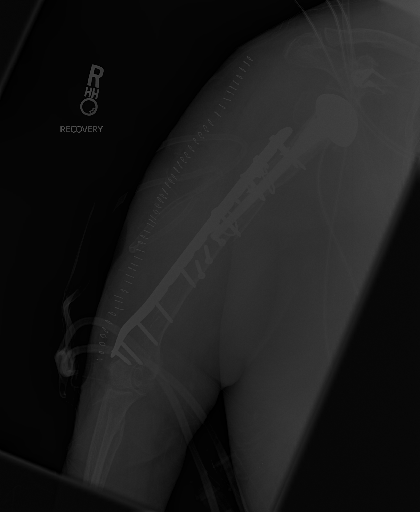implant: (231, 125, 307, 200), (110, 295, 175, 371), (170, 215, 232, 293)
